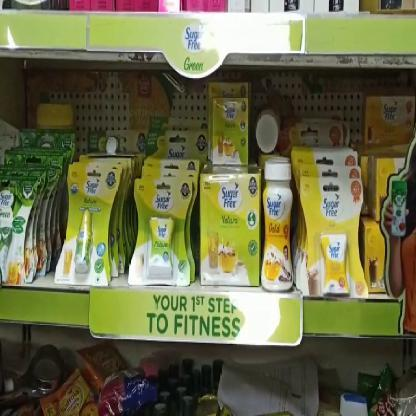SUGAR FREE GOLD 500 PELLET: (298, 176, 368, 300)
SUGAR FREE GOLD POWDER 100GM: (264, 163, 293, 292)
SUGAR FREE GRN 300 PELLET: (0, 174, 36, 286)
SUGAR FREE NATURA 500 PELLET: (132, 176, 192, 291)
SUGAR FREE NATURA SACHET 50: (200, 175, 258, 288)
SUGAR FREE NATURA SWEET DROPS: (56, 166, 121, 288)
